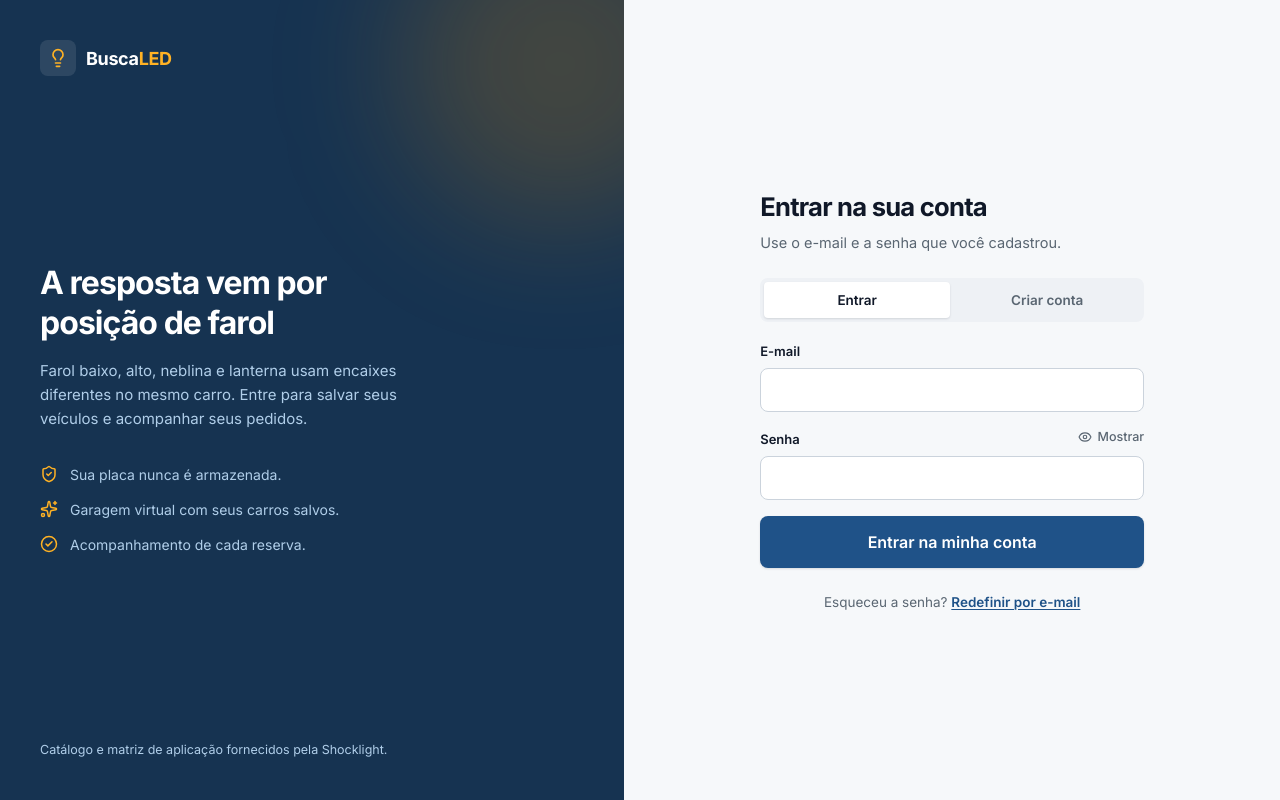
Test case: Entrar › troca para a aba de cadastro e pede o nome
Check: the field labelled "E-mail" is shown, box [760,368,1144,412]
Step 1. Press the mouse on the tab "Criar conta" → (1047, 300), box [954,282,1140,318]
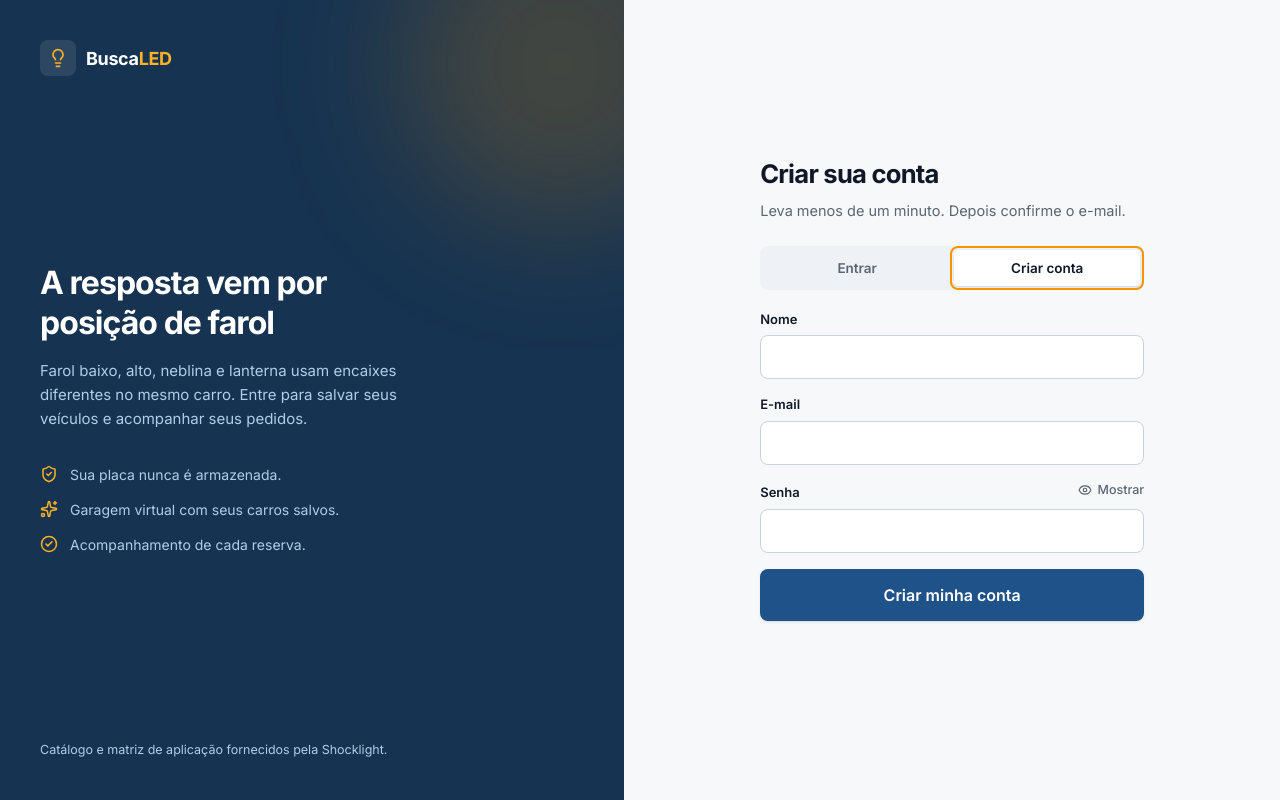
Check: the field labelled "Nome" is shown, box [760,335,1144,379]
Check: the button "Criar minha conta" is shown, box [760,569,1144,621]
